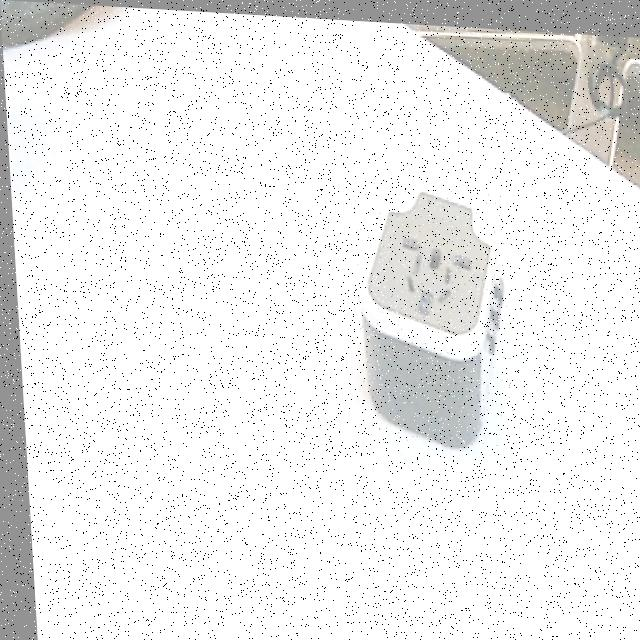adapter: (348, 175, 511, 445)
